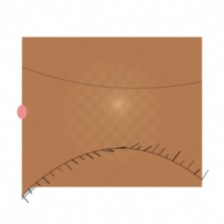hemorrhage_spot: (65, 88, 147, 153)
